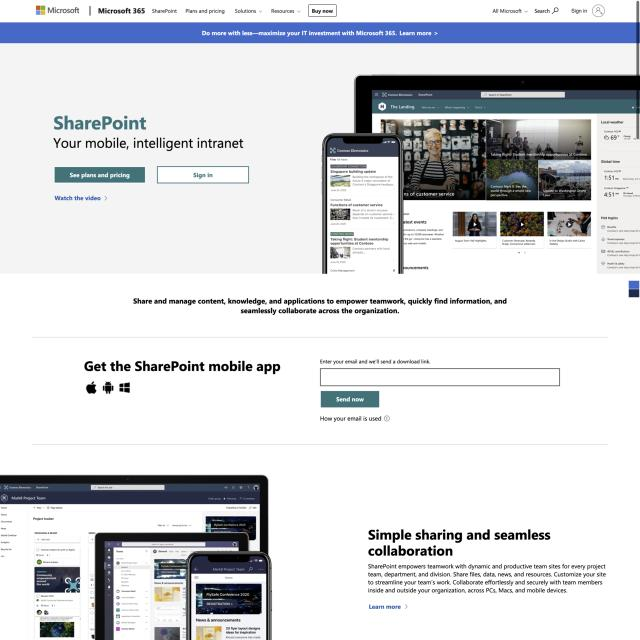input: (319, 367, 561, 387)
logo: (34, 3, 82, 17)
navigation: (150, 6, 304, 17)
